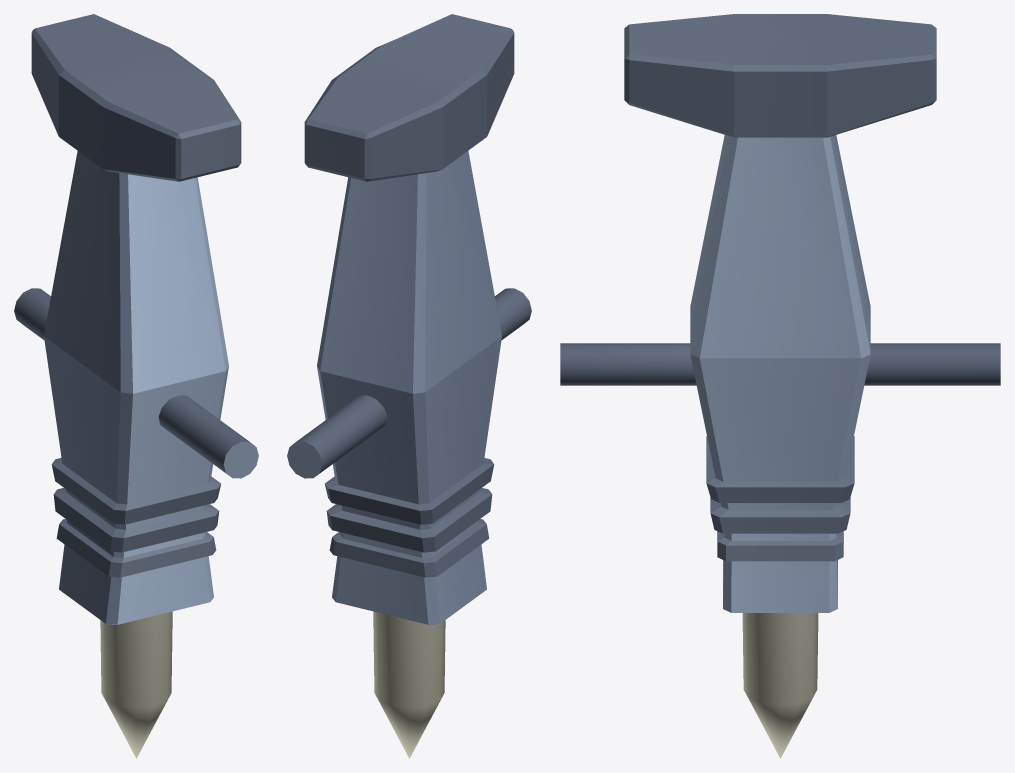
Rendered from drill5.fbx.
The picture shows the model from 3 angles, left to right: view 1: azimuth 30°, elevation 25°; view 2: azimuth 150°, elevation 25°; view 3: azimuth 270°, elevation 25°; orthographic projection. The views are drawn at different scales.
Parts seen in each view (by area): view 1: drill1; view 2: drill1; view 3: drill1.
Boxes of the visible parts, x1,y1,x2,y2 form: drill1: (14,14,258,758); drill1: (287,14,531,758); drill1: (560,14,1000,758).
Size of the model in its own units: 0.2616 by 1.54 by 0.8551.
